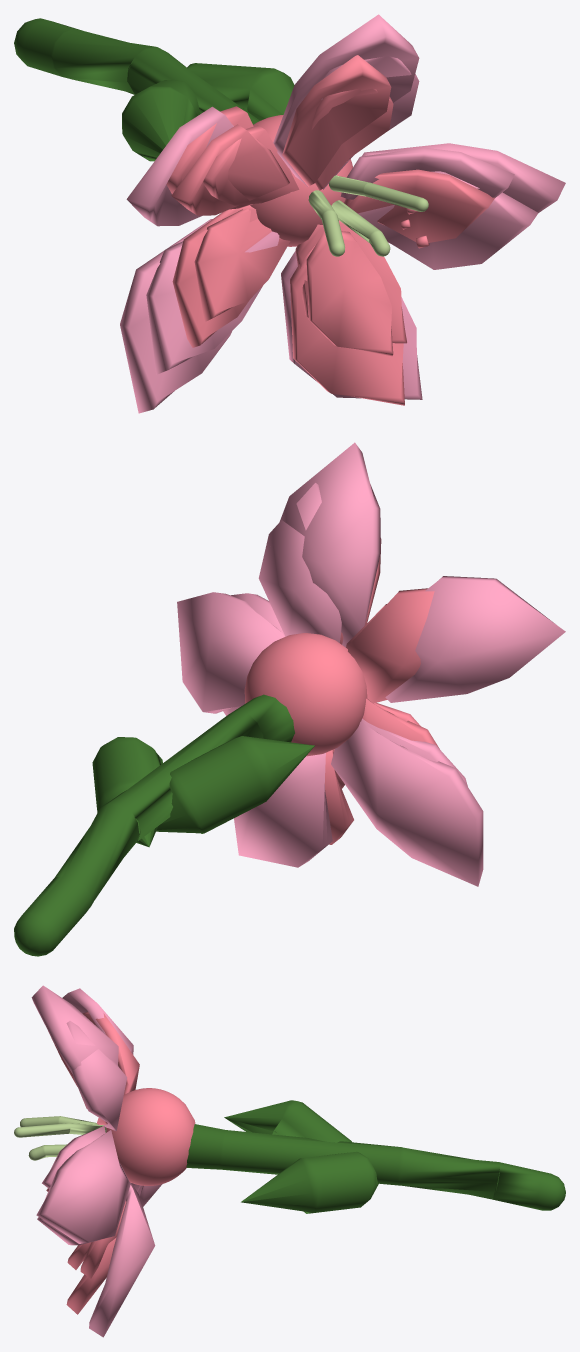
Rendered from stargazerslyly.obj.obj.
The picture shows the model from 3 angles, top to bottom: view 1: azimuth 30°, elevation 25°; view 2: azimuth 150°, elevation 25°; view 3: azimuth 270°, elevation 25°; orthographic projection. The views are drawn at different scales.
Visible parts, largest first — view 1: s.0106, s.0163, s.0132, s.0162, s.0166, s.0167, s.0157, s.0164, s.0135, s.0161, s.0165, s.0097 (+15 smaller); view 2: s.0106, s.0157, s.0159, s.0161, p.0086, s.0097, s.0158, s.0156, s.0170, s.0171, s.0098, s.0162 (+3 smaller); view 3: s.0106, s.0158, p.0086, s.0098, s.0156, s.0161, s.0170, s.0097, s.0162, s.0171, s.0159, s.0174 (+3 smaller).
Boxes of the visible parts, x1,y1,x2,y2 form: s.0106: [14, 18, 259, 124]; s.0163: [306, 231, 393, 356]; s.0132: [282, 55, 391, 186]; s.0162: [290, 245, 404, 405]; s.0166: [194, 209, 290, 321]; s.0167: [344, 169, 494, 242]; s.0157: [120, 219, 231, 413]; s.0164: [358, 171, 538, 269]; s.0135: [171, 124, 289, 215]; s.0161: [273, 14, 419, 186]; s.0165: [146, 231, 279, 374]; s.0097: [122, 80, 200, 161]; s.0106: [14, 694, 294, 956]; s.0157: [331, 721, 483, 886]; s.0159: [385, 576, 565, 702]; s.0161: [279, 442, 380, 647]; p.0086: [244, 633, 367, 756]; s.0097: [156, 736, 314, 833]; s.0158: [177, 592, 284, 713]; s.0156: [234, 753, 332, 867]; s.0170: [258, 483, 341, 642]; s.0171: [348, 588, 434, 703]; s.0098: [92, 737, 162, 847]; s.0162: [324, 750, 353, 844]; s.0106: [186, 1124, 565, 1210]; s.0158: [36, 1130, 130, 1243]; p.0086: [106, 1088, 195, 1185]; s.0098: [241, 1151, 378, 1213]; s.0156: [89, 1182, 155, 1337]; s.0161: [31, 985, 118, 1073]; s.0170: [66, 1021, 127, 1130]; s.0097: [224, 1100, 351, 1142]; s.0162: [66, 1237, 116, 1314]; s.0171: [82, 1012, 139, 1094]; s.0159: [62, 988, 133, 1066]; s.0174: [14, 1123, 106, 1137].
Size of the model in its own units: 24.56 by 23.78 by 36.96.
